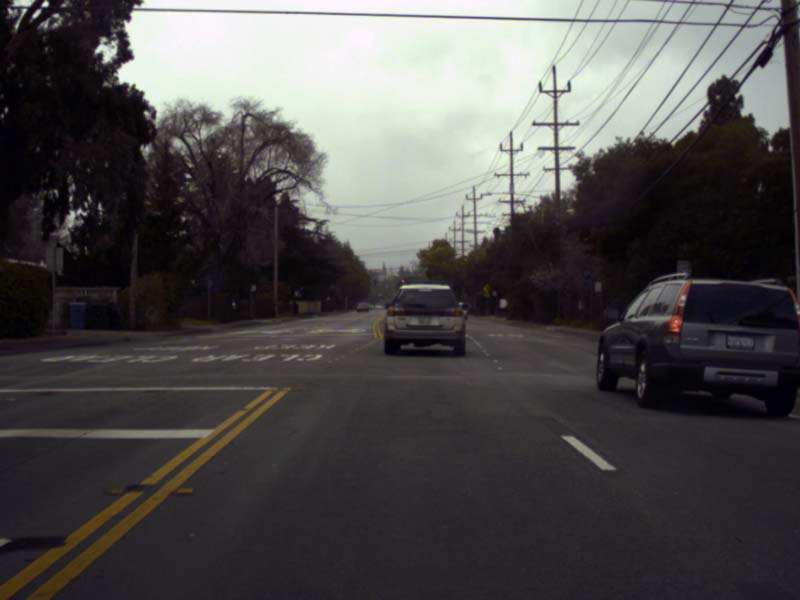Red: (400, 276, 405, 287)
